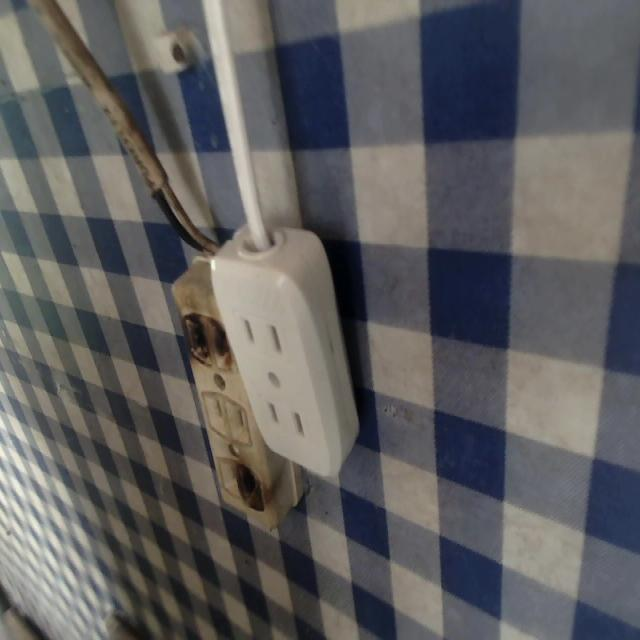-: (180, 308, 237, 369), (228, 456, 269, 511)
